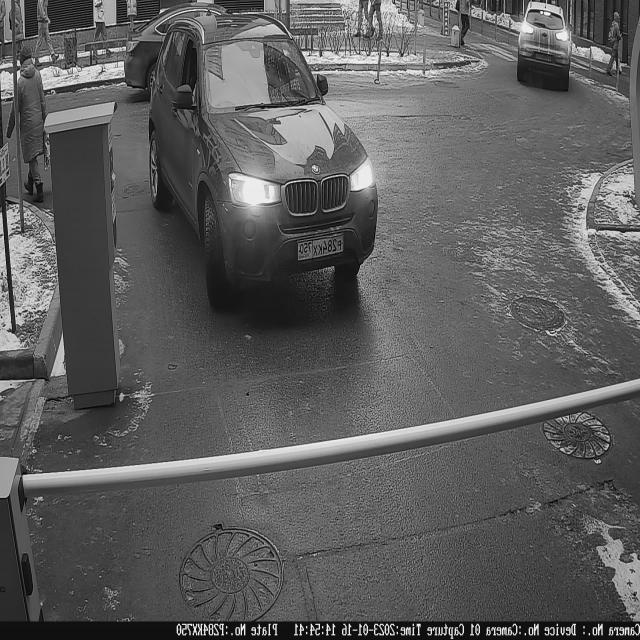car-plate-numbers: (296, 228, 348, 267)
